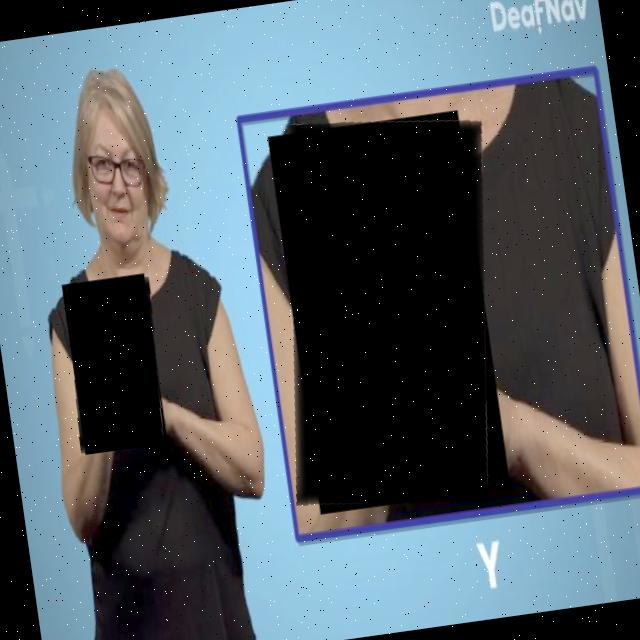Y: (258, 106, 525, 524), (61, 275, 172, 458)
